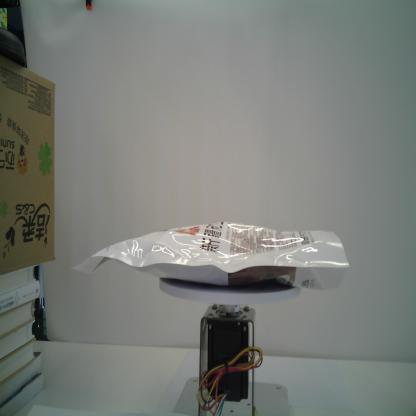Dried Food: (68, 218, 350, 291)
